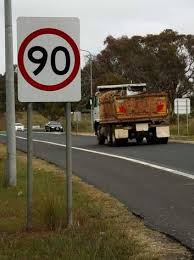sp90: (17, 28, 86, 98)
